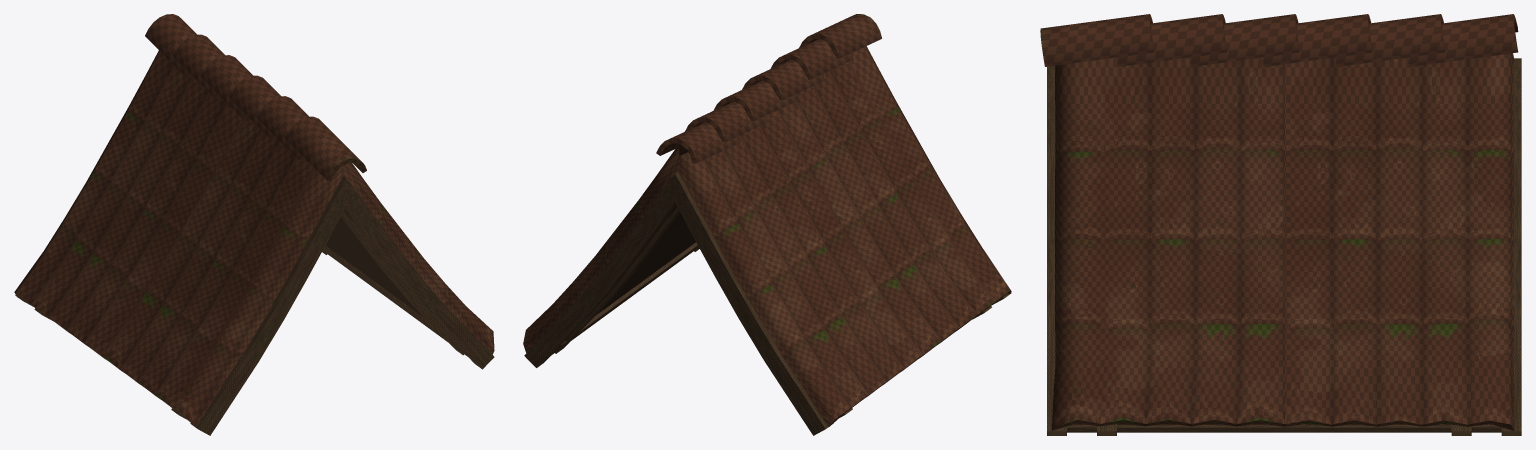
The picture shows the model from 3 angles, left to right: view 1: azimuth 30°, elevation 25°; view 2: azimuth 150°, elevation 25°; view 3: azimuth 270°, elevation 25°; orthographic projection. The views are drawn at different scales.
Visible parts, largest first — view 1: Roof_RoundTiles_4x4; view 2: Roof_RoundTiles_4x4; view 3: Roof_RoundTiles_4x4.
Part boxes in pixels (box(x1,y1,x2,y2)): Roof_RoundTiles_4x4: box(14, 14, 494, 435); Roof_RoundTiles_4x4: box(523, 14, 1011, 435); Roof_RoundTiles_4x4: box(1040, 14, 1521, 435).
Size of the model in its own units: 5.51 by 4.25 by 5.56.
Materials: 2 (2 with a texture image).
